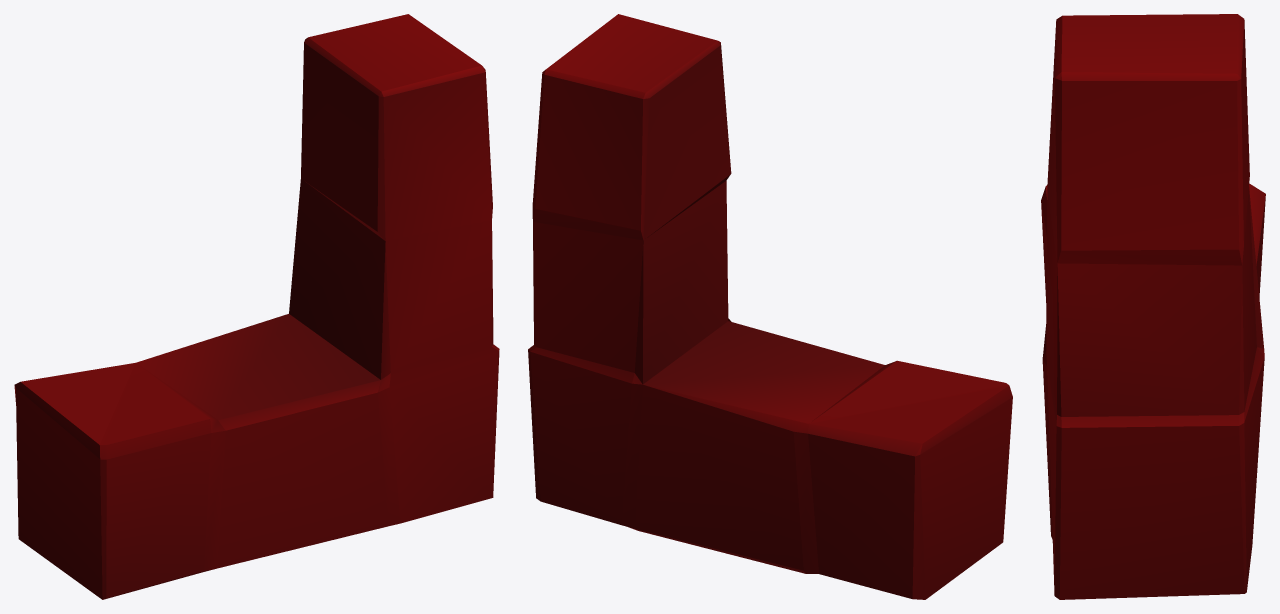
File: geology-carvedstone-stoneblock_v1.fbx
3 renders of one model, left to right at view 1: azimuth 30°, elevation 25°; view 2: azimuth 150°, elevation 25°; view 3: azimuth 270°, elevation 25°, orthographic. The views are drawn at different scales.
Visible parts, largest first — view 1: StoneBlock_v1; view 2: StoneBlock_v1; view 3: StoneBlock_v1.
Boxes of the visible parts, <box> form: StoneBlock_v1: <box>14,14,499,599</box>; StoneBlock_v1: <box>528,14,1012,599</box>; StoneBlock_v1: <box>1041,14,1265,599</box>.
Size of the model in its own units: 8.42 by 8.71 by 3.36.
